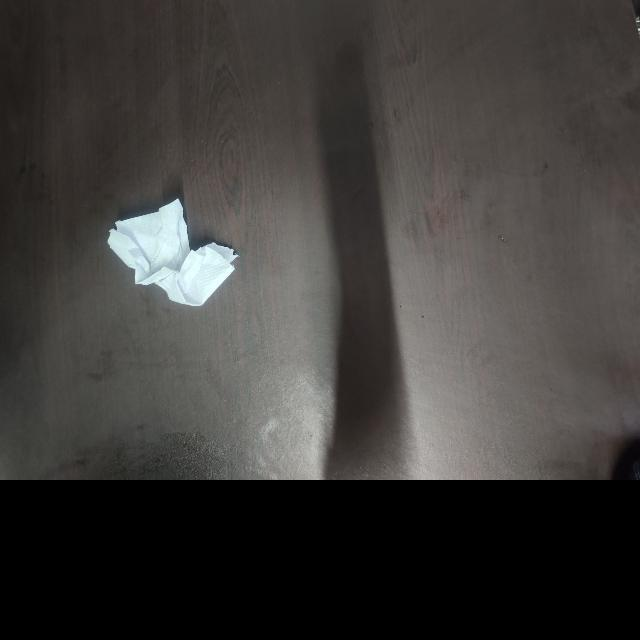kitchen paper: (105, 196, 243, 308)
